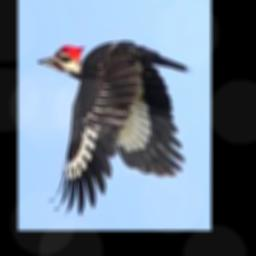Woodpecker: (38, 39, 193, 214)
